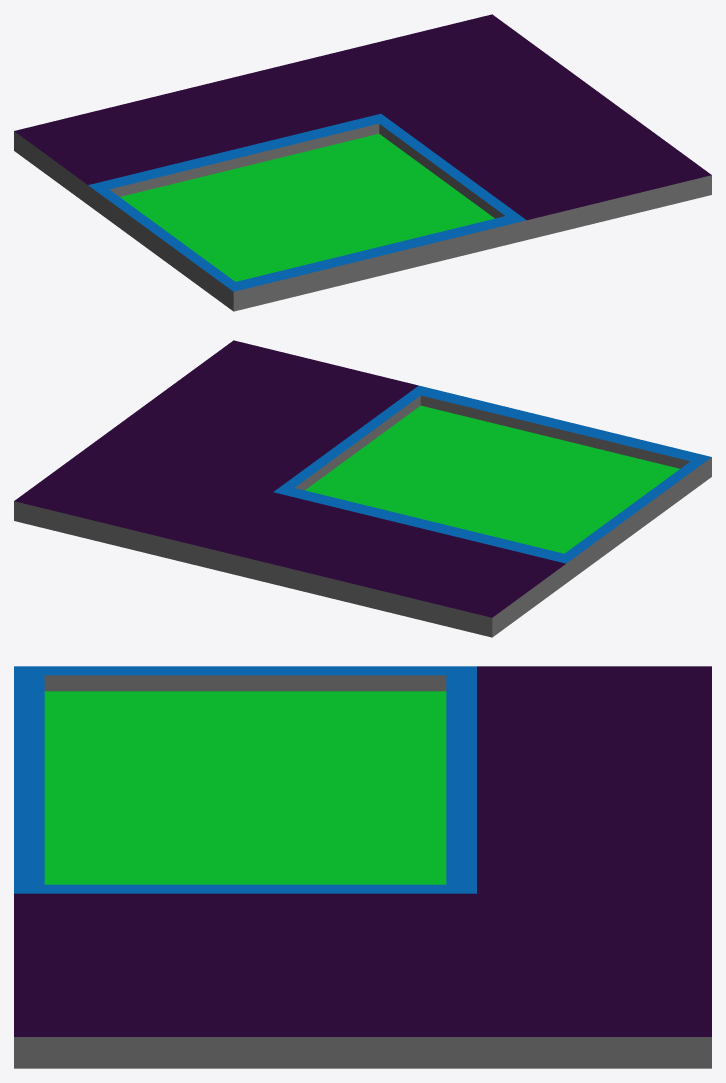
File: suelonuevo.fbx
3 views of the same model, one above another, from view 1: azimuth 30°, elevation 25°; view 2: azimuth 150°, elevation 25°; view 3: azimuth 270°, elevation 25° (orthographic). The views are drawn at different scales.
Parts seen in each view (by area): view 1: Suelo; view 2: Suelo; view 3: Suelo.
Boxes of the visible parts, <box> form: Suelo: <box>14,14,711,311</box>; Suelo: <box>14,340,711,637</box>; Suelo: <box>14,666,711,1068</box>.
Size of the model in its own units: 253 by 10 by 201.
